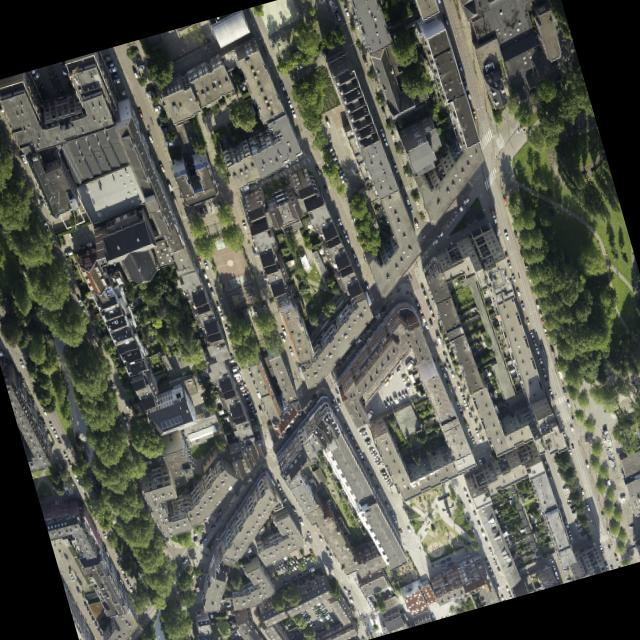large-vehicle: (257, 522, 267, 536)
small-vehicle: (145, 87, 157, 98), (365, 408, 374, 421), (350, 212, 361, 222), (405, 358, 414, 370), (385, 120, 393, 132), (376, 93, 383, 106), (232, 368, 242, 377), (240, 183, 250, 192), (194, 208, 202, 219), (238, 381, 247, 390), (37, 82, 45, 92), (105, 60, 115, 68), (39, 196, 46, 207), (255, 387, 262, 398), (383, 376, 390, 387), (108, 65, 117, 73), (136, 63, 145, 71), (157, 118, 166, 126), (160, 124, 169, 132), (284, 426, 292, 435), (320, 48, 329, 56), (295, 62, 304, 70), (325, 145, 334, 153), (43, 221, 50, 231), (20, 153, 27, 163), (41, 88, 48, 98), (147, 133, 154, 143), (132, 69, 139, 79), (555, 74, 562, 84), (290, 108, 297, 118), (437, 229, 444, 239), (343, 6, 350, 16), (462, 79, 468, 90), (457, 60, 463, 71), (443, 14, 449, 25), (245, 545, 253, 553), (231, 364, 239, 372), (131, 47, 139, 55), (267, 170, 275, 178), (283, 160, 291, 168), (292, 50, 300, 58), (84, 323, 91, 332), (64, 249, 73, 256), (33, 71, 40, 80), (252, 307, 259, 316), (279, 333, 286, 342), (339, 355, 346, 364), (432, 237, 439, 246), (388, 370, 395, 379), (529, 87, 536, 96), (550, 59, 557, 68), (279, 80, 285, 90), (137, 107, 143, 117), (287, 98, 293, 108), (251, 246, 257, 256), (382, 136, 388, 146), (379, 127, 385, 137), (436, 334, 442, 344), (425, 298, 431, 308), (344, 233, 350, 243), (335, 10, 341, 20), (362, 55, 368, 65), (358, 44, 364, 54), (52, 429, 59, 437), (62, 68, 69, 76), (78, 243, 86, 250), (305, 616, 312, 624), (241, 389, 249, 396), (211, 181, 219, 188), (118, 89, 126, 96), (153, 104, 161, 111), (165, 139, 173, 146), (164, 134, 172, 141), (359, 330, 366, 338), (275, 165, 283, 172), (292, 156, 300, 163), (306, 398, 313, 406), (359, 428, 367, 435), (338, 171, 345, 179), (336, 167, 343, 175), (369, 317, 376, 325), (519, 122, 526, 130), (19, 359, 25, 368), (93, 513, 99, 522), (77, 297, 83, 306), (199, 207, 205, 216), (224, 325, 230, 334), (167, 181, 173, 190), (196, 255, 202, 264), (171, 192, 177, 201), (159, 163, 165, 172), (298, 517, 304, 526), (283, 90, 289, 99), (281, 326, 287, 335), (315, 166, 321, 175), (325, 118, 331, 127), (354, 258, 360, 267), (340, 225, 346, 234), (403, 166, 408, 176), (492, 213, 497, 223), (504, 230, 509, 240), (0, 105, 7, 112), (308, 565, 315, 572), (322, 609, 329, 616), (246, 400, 253, 407), (113, 77, 120, 84), (334, 363, 341, 370), (254, 177, 261, 184), (340, 176, 347, 183), (374, 311, 381, 318), (402, 376, 409, 383), (567, 499, 574, 506), (49, 234, 55, 242), (56, 437, 62, 445), (64, 268, 70, 276), (215, 515, 221, 523), (234, 373, 242, 379), (227, 357, 235, 363), (203, 261, 209, 269), (250, 410, 258, 416), (216, 202, 222, 210), (349, 343, 355, 351), (289, 420, 295, 428), (355, 336, 361, 344), (323, 185, 329, 193), (302, 404, 308, 412), (329, 155, 337, 161), (297, 410, 303, 418), (380, 304, 386, 312), (457, 205, 463, 213), (463, 196, 469, 204), (219, 311, 224, 320), (240, 311, 245, 320), (203, 205, 208, 214), (242, 220, 247, 229), (393, 163, 398, 172), (429, 319, 434, 328), (390, 131, 395, 140), (365, 322, 370, 331), (337, 217, 342, 226), (408, 204, 413, 213), (405, 196, 410, 205), (520, 301, 525, 310), (511, 273, 516, 282), (524, 262, 529, 271), (489, 205, 494, 214), (472, 109, 477, 118), (121, 413, 127, 420), (67, 460, 73, 467), (86, 241, 93, 247), (199, 539, 205, 546), (216, 497, 222, 504), (280, 562, 286, 569), (248, 547, 254, 554), (348, 595, 354, 602), (145, 459, 152, 465), (317, 615, 324, 621), (319, 605, 326, 611), (237, 379, 244, 385), (249, 373, 255, 380), (206, 280, 212, 287), (111, 72, 118, 78), (246, 476, 252, 483), (344, 350, 350, 357), (280, 497, 287, 503), (387, 483, 394, 489), (364, 438, 371, 444), (311, 393, 317, 400), (328, 150, 335, 156), (349, 204, 356, 210), (464, 553, 471, 559), (447, 561, 454, 567), (562, 485, 569, 491), (405, 383, 412, 389), (620, 494, 626, 501), (527, 113, 533, 120), (76, 586, 81, 594), (128, 584, 133, 592), (49, 421, 54, 429), (42, 407, 47, 415), (82, 306, 87, 314), (203, 533, 208, 541), (293, 555, 298, 563), (109, 381, 114, 389), (72, 469, 77, 477), (216, 303, 221, 311), (210, 288, 215, 296), (237, 312, 242, 320), (203, 271, 208, 279), (289, 347, 294, 355), (261, 272, 266, 280), (334, 403, 339, 411), (335, 388, 340, 396), (399, 180, 404, 188), (386, 398, 391, 406), (351, 250, 356, 258), (394, 142, 399, 150), (414, 197, 419, 205), (381, 106, 386, 114), (414, 220, 419, 228), (460, 410, 465, 418), (464, 402, 469, 410), (396, 365, 401, 373), (475, 428, 480, 436), (550, 348, 555, 356), (507, 260, 512, 268), (527, 274, 532, 282), (525, 317, 530, 325), (548, 387, 553, 395), (562, 387, 567, 395), (542, 369, 547, 377), (538, 356, 543, 364), (535, 346, 540, 354), (532, 338, 537, 346), (182, 558, 188, 564), (282, 579, 288, 585), (291, 575, 297, 581), (302, 569, 308, 575), (325, 614, 331, 620), (324, 612, 330, 618), (318, 603, 324, 609), (244, 394, 250, 400), (241, 386, 247, 392), (236, 376, 242, 382), (227, 353, 233, 359), (250, 407, 256, 413), (361, 431, 367, 437), (386, 480, 392, 486), (384, 475, 390, 481), (376, 461, 382, 467), (375, 458, 381, 464), (373, 455, 379, 461), (372, 452, 378, 458), (369, 447, 375, 453), (366, 441, 372, 447), (334, 164, 340, 170), (332, 159, 338, 165), (348, 200, 354, 206), (401, 374, 407, 380), (119, 566, 124, 573), (116, 560, 121, 567), (102, 531, 107, 538), (87, 500, 92, 507), (90, 506, 95, 513), (77, 480, 82, 487), (125, 420, 130, 427), (125, 403, 130, 410), (68, 231, 73, 238), (124, 443, 129, 450), (203, 515, 208, 522), (200, 525, 205, 532), (193, 529, 198, 536), (150, 511, 155, 518), (131, 483, 136, 490), (303, 558, 308, 565), (320, 628, 325, 635), (334, 620, 339, 627), (258, 406, 263, 413), (407, 526, 412, 533), (568, 533, 573, 540), (346, 428, 351, 435), (344, 423, 349, 430), (330, 394, 335, 401), (336, 398, 341, 405), (490, 570, 495, 577), (358, 451, 363, 458), (361, 457, 366, 464), (423, 292, 428, 299), (420, 284, 425, 291), (415, 300, 420, 307), (421, 315, 426, 322), (424, 322, 429, 329), (478, 458, 483, 465), (481, 457, 486, 464), (457, 404, 462, 411), (459, 388, 464, 395), (442, 370, 447, 377), (398, 393, 403, 400), (401, 391, 406, 398), (448, 386, 453, 393), (465, 424, 470, 431), (468, 412, 473, 419), (504, 253, 509, 260), (535, 302, 540, 309), (466, 92, 471, 99), (566, 400, 571, 407), (550, 394, 555, 401), (529, 330, 534, 337), (462, 395, 466, 403), (586, 503, 590, 511), (516, 288, 520, 296), (503, 196, 507, 204), (545, 331, 549, 339), (96, 626, 101, 632), (90, 616, 95, 622), (83, 601, 88, 607), (343, 586, 348, 592), (68, 82, 74, 87), (65, 76, 71, 81), (193, 536, 198, 542), (210, 524, 215, 530), (217, 509, 222, 515), (376, 485, 381, 491), (97, 344, 102, 350), (275, 566, 280, 572), (278, 564, 283, 570), (283, 561, 288, 567), (288, 559, 293, 565), (290, 557, 295, 563), (297, 572, 302, 578), (292, 564, 297, 570), (297, 561, 302, 567), (300, 560, 305, 566), (308, 556, 313, 562), (301, 553, 306, 559), (315, 611, 321, 616), (302, 613, 308, 618), (301, 611, 307, 616), (300, 608, 305, 614), (312, 606, 318, 611), (316, 613, 322, 618), (315, 631, 320, 637), (322, 627, 327, 633), (149, 96, 155, 101), (384, 501, 389, 507), (382, 473, 388, 478), (385, 478, 391, 483), (380, 469, 386, 474), (349, 434, 354, 440), (355, 446, 360, 452), (488, 547, 493, 553), (445, 557, 451, 562), (496, 566, 501, 572), (383, 401, 388, 407), (431, 314, 436, 320), (99, 631, 104, 637), (566, 577, 572, 582), (306, 55, 312, 60), (440, 559, 446, 564), (489, 451, 494, 457), (450, 371, 455, 377), (443, 364, 448, 370), (445, 359, 450, 365), (389, 398, 394, 404), (404, 390, 409, 396), (577, 526, 582, 532), (574, 519, 580, 524), (571, 509, 577, 514), (549, 557, 554, 563), (567, 497, 573, 502), (441, 565, 447, 570), (628, 523, 634, 528), (612, 504, 617, 510), (94, 621, 98, 628), (143, 607, 147, 614), (126, 579, 130, 586), (123, 573, 127, 580), (40, 401, 44, 408), (84, 493, 88, 500), (307, 531, 311, 538), (309, 548, 313, 555), (333, 622, 337, 629), (253, 380, 257, 387), (235, 489, 239, 496), (393, 516, 397, 523), (390, 510, 394, 517), (571, 443, 575, 450), (353, 439, 357, 446), (494, 560, 498, 567), (471, 437, 475, 444), (429, 307, 433, 314), (365, 282, 369, 289), (418, 307, 422, 314), (443, 351, 447, 358), (440, 364, 444, 371), (548, 472, 552, 479), (585, 461, 589, 468), (566, 442, 570, 449), (562, 429, 566, 436), (604, 561, 608, 568), (545, 376, 549, 383), (541, 363, 545, 370), (540, 345, 544, 352), (543, 325, 547, 332), (88, 611, 93, 616), (310, 623, 315, 628), (308, 621, 313, 626), (307, 620, 312, 625), (304, 615, 309, 620), (311, 604, 316, 609), (321, 608, 326, 613), (317, 601, 322, 606), (248, 404, 253, 409), (371, 450, 376, 455), (434, 562, 439, 567), (570, 505, 575, 510), (436, 0, 441, 5), (557, 470, 562, 475), (455, 399, 459, 405), (86, 606, 90, 612), (193, 591, 197, 597), (195, 584, 199, 590), (199, 569, 203, 575), (225, 603, 231, 607), (119, 422, 123, 428), (115, 406, 119, 412), (142, 493, 146, 499), (290, 565, 294, 571), (295, 563, 299, 569), (329, 552, 333, 558), (600, 549, 604, 555), (314, 609, 320, 613), (330, 624, 334, 630), (318, 630, 322, 636), (326, 547, 330, 553), (328, 625, 332, 631), (292, 506, 296, 512), (399, 528, 403, 534), (370, 473, 374, 479), (470, 464, 474, 470), (464, 467, 468, 473), (567, 528, 571, 534), (487, 562, 491, 568), (492, 556, 496, 562), (484, 537, 488, 543), (481, 530, 485, 536), (477, 520, 481, 526), (468, 500, 472, 506), (463, 488, 467, 494), (457, 383, 461, 389), (448, 365, 452, 371), (446, 380, 450, 386), (463, 419, 467, 425), (565, 522, 569, 528), (563, 517, 567, 523), (599, 544, 603, 550), (546, 465, 550, 471), (543, 458, 547, 464), (568, 448, 572, 454), (552, 564, 556, 570), (606, 527, 610, 533), (531, 289, 535, 295), (520, 251, 524, 257), (514, 232, 518, 238), (478, 435, 482, 441), (468, 431, 472, 437), (367, 468, 371, 474), (570, 425, 574, 431), (555, 359, 559, 365), (541, 318, 545, 324), (75, 476, 79, 481), (198, 574, 202, 579), (197, 526, 201, 531), (145, 500, 149, 505), (311, 555, 315, 560), (319, 618, 324, 622), (319, 536, 323, 541), (276, 481, 280, 486), (496, 584, 500, 589), (505, 586, 509, 591), (471, 527, 475, 532), (466, 517, 470, 522), (473, 511, 477, 516), (555, 574, 559, 579), (560, 508, 564, 513), (615, 558, 619, 563), (563, 568, 568, 572), (562, 565, 567, 569), (575, 522, 580, 526), (507, 590, 511, 595), (571, 416, 575, 421), (348, 590, 351, 596), (191, 572, 194, 578), (489, 566, 492, 572), (581, 488, 584, 494), (601, 511, 604, 517), (539, 311, 542, 317), (516, 569, 520, 573), (560, 561, 564, 565), (187, 618, 190, 623), (501, 595, 504, 600), (485, 557, 488, 562), (491, 552, 494, 557), (466, 494, 469, 499), (608, 545, 611, 550), (102, 637, 106, 640), (189, 582, 192, 586), (614, 554, 617, 558)
